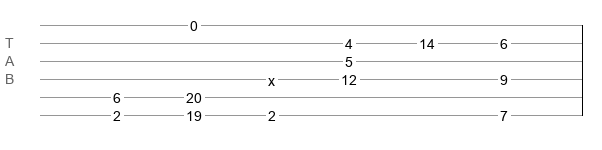0: (190, 18, 198, 28)
12: (341, 72, 357, 82)
14: (419, 36, 435, 46)
19: (186, 108, 202, 118)
2: (113, 108, 121, 118), (268, 108, 276, 118)
20: (186, 90, 202, 100)
4: (345, 36, 353, 46)
5: (345, 54, 353, 64)
6: (113, 90, 121, 100), (500, 36, 508, 46)
7: (500, 108, 508, 118)
9: (500, 72, 508, 82)
x: (268, 73, 275, 81)
